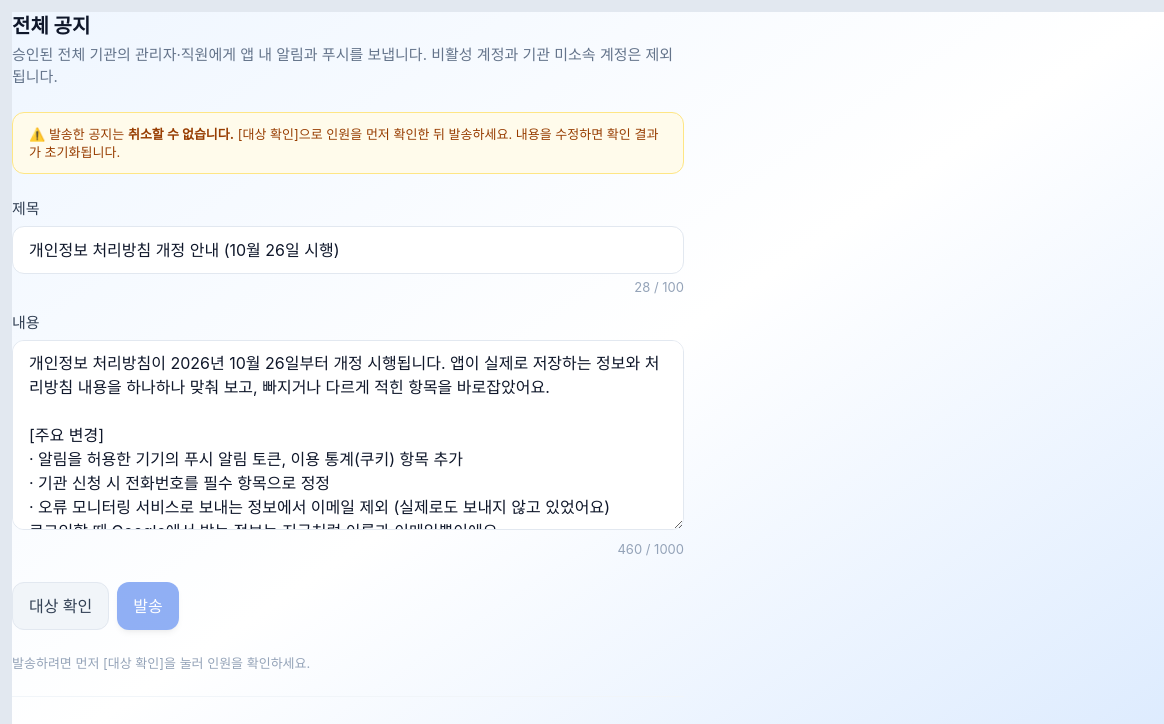
Test case: BroadcastNoticePage › 제목이 비면 대상 확인도 막는다
Step 1. Clear the field labelled "제목" → (348, 250), box [12,226,684,274]
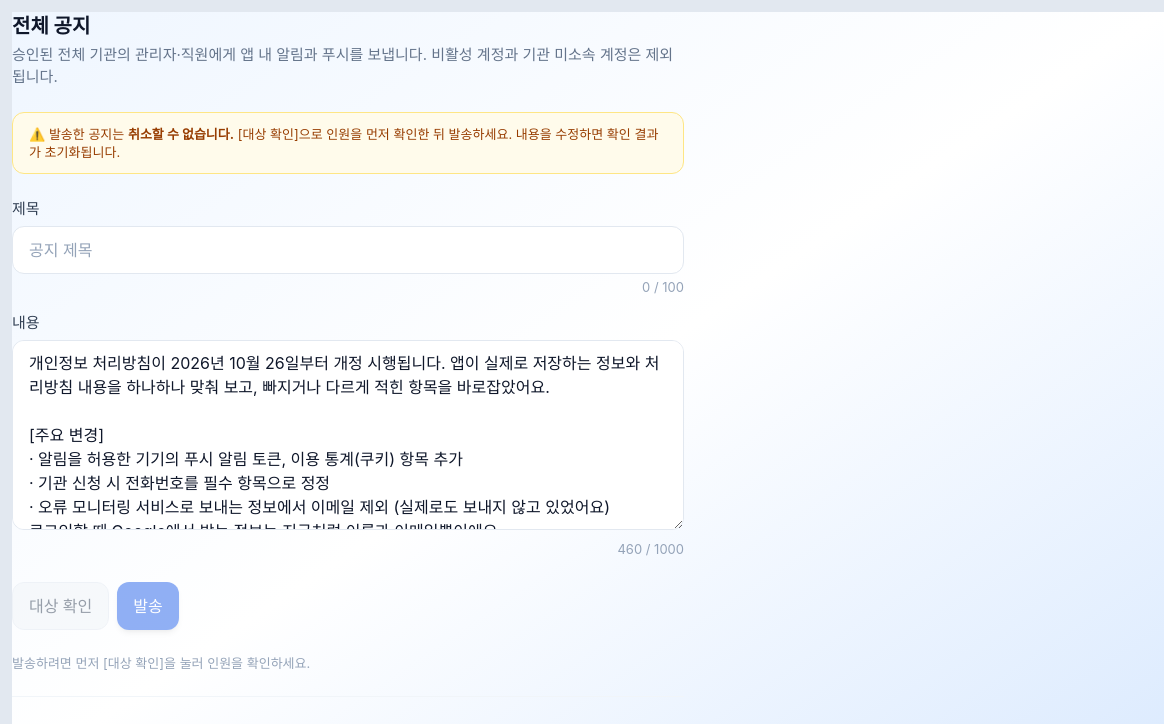
Check: the button "발송" is disabled, box [117,582,179,630]
Check: the button "대상 확인" is disabled, box [12,582,109,630]
